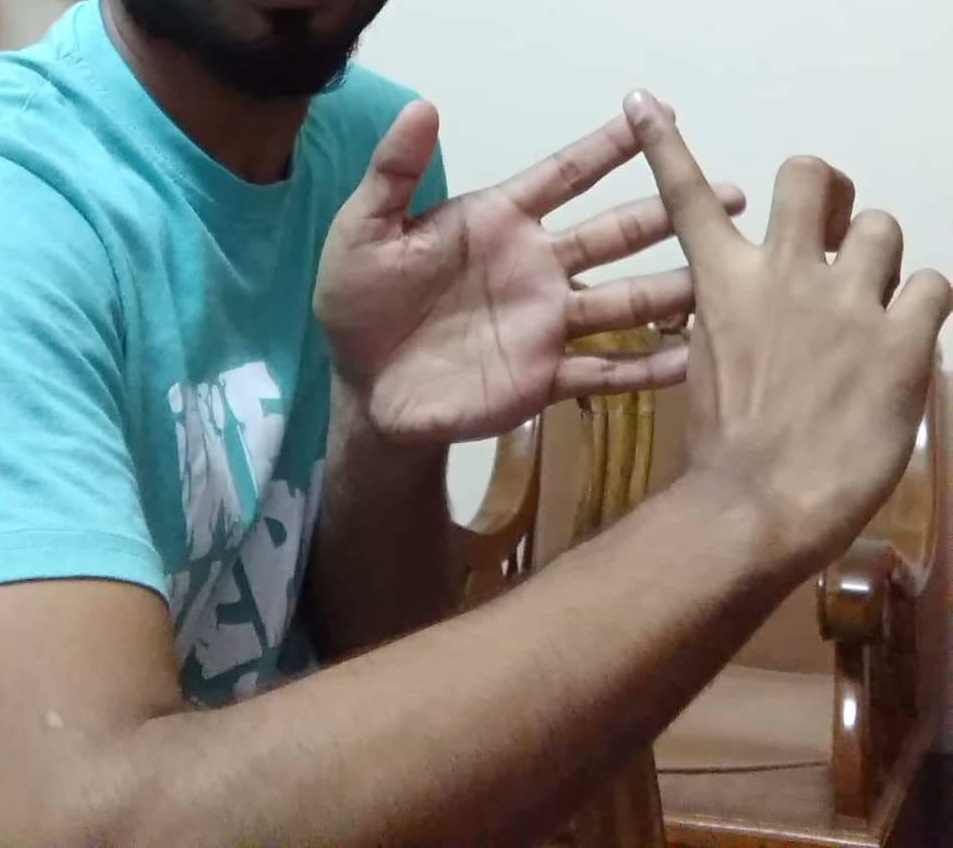o: (374, 91, 901, 411)
